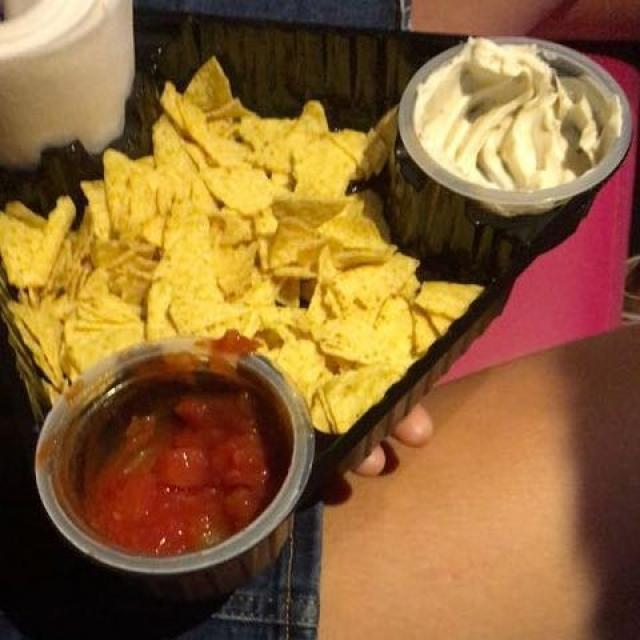corn-crisps: (2, 66, 497, 454)
dips: (377, 30, 614, 205)
